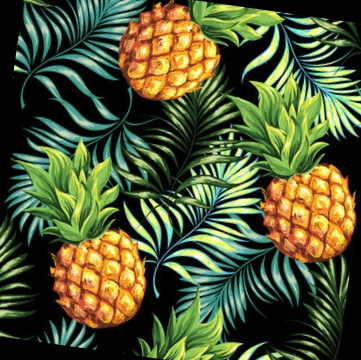Pineapple: (21, 136, 152, 331), (225, 75, 354, 261), (115, 6, 285, 113)
